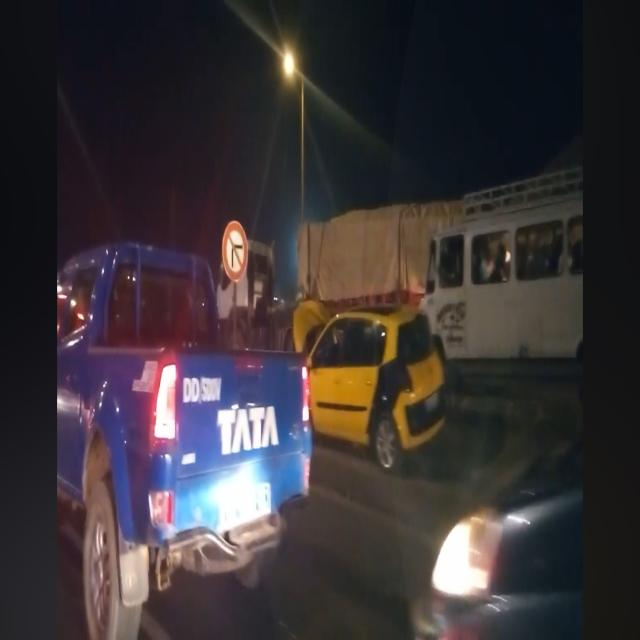camion: (217, 242, 275, 350)
ndiaga ndiaye: (426, 169, 584, 361)
particulier: (59, 244, 312, 639)
taxi: (309, 307, 446, 472)
